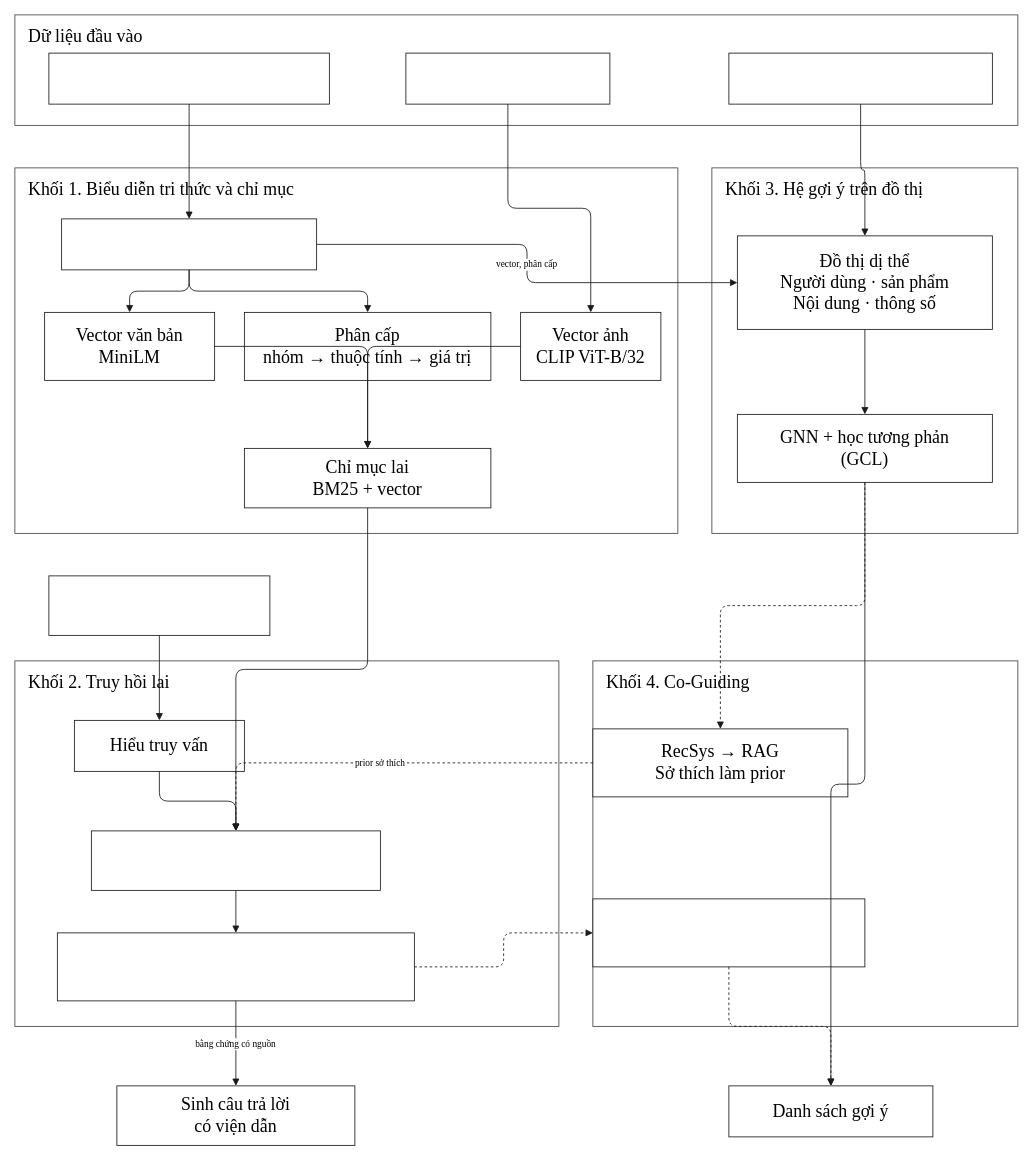
Some shapes in this 1033 by 1160 pixel diagram are drawn without their labels. The shapes that lost their labels are listed below. From the top down, each one's centre as x and y in pixels, then its label:
point (188, 78): Catalog, thông số, đánh giá
point (507, 78): Ảnh sản phẩm
point (860, 78): Tương tác huấn luyện
point (189, 244): Chuẩn hóa trường dữ liệu
point (159, 605): Truy vấn và ngữ cảnh hội thoại
point (235, 860): Truy hồi và hợp nhất hạng (RRF)
point (728, 932): RAG → RecSys Bằng chứng định hướng feed
point (235, 966): Xếp hạng lại theo ràng buộc satisfied / unknown / violated
